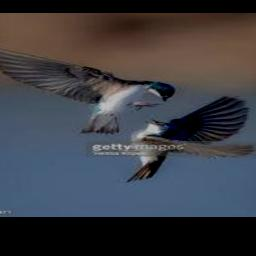Swallow: (0, 45, 175, 134), (127, 96, 253, 181)
